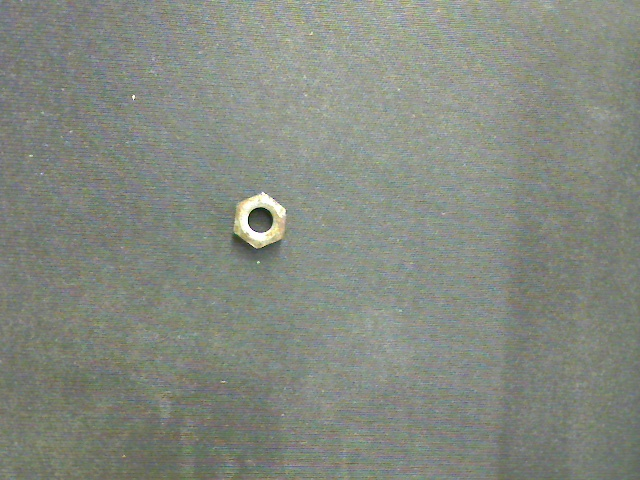Nut: (234, 192, 286, 250)
